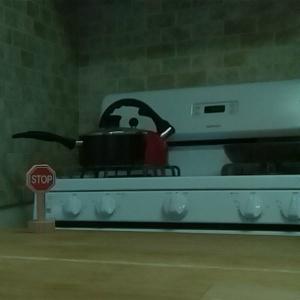stop sign: (23, 162, 58, 235)
